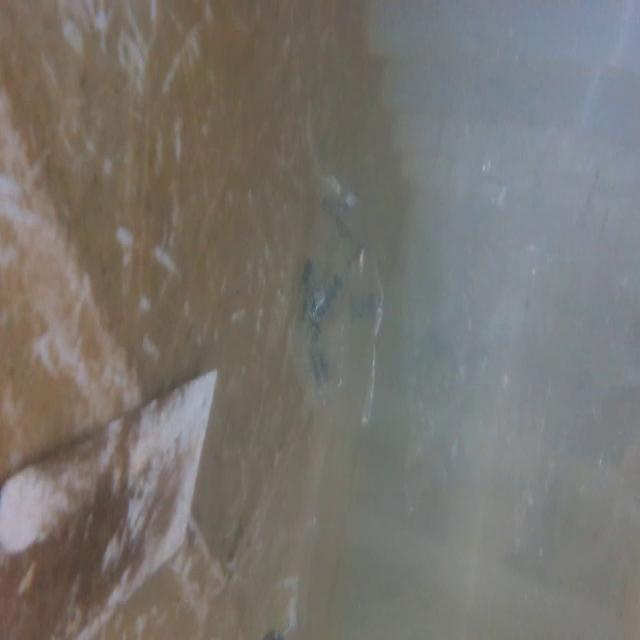plastic bottle: (287, 166, 390, 438)
